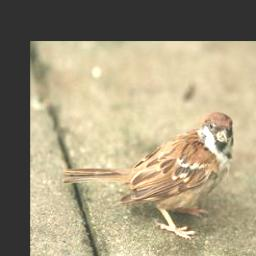Sparrow: (63, 109, 236, 241)
